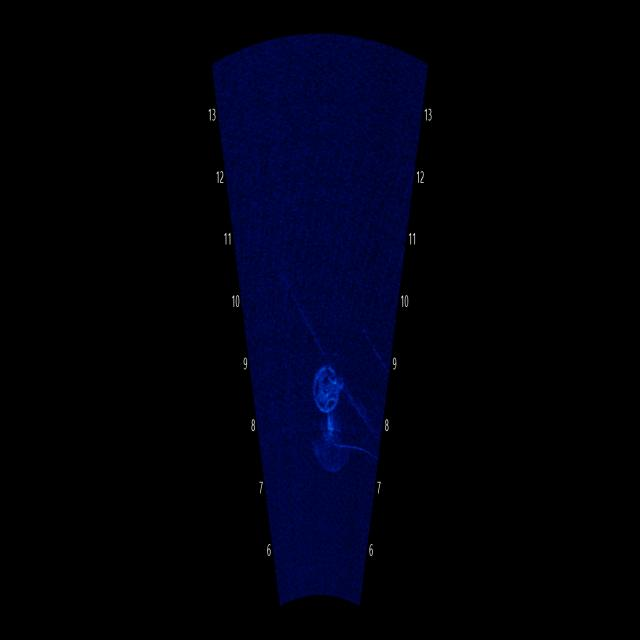circle: (301, 323, 357, 431)
